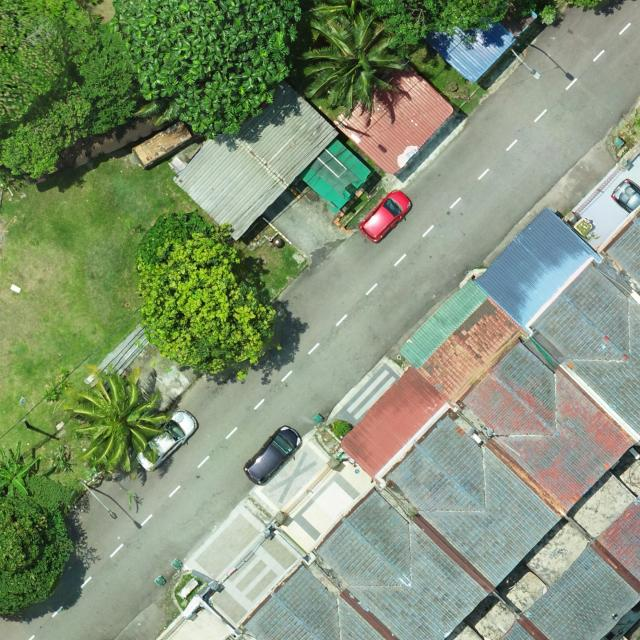Tree: (111, 0, 301, 141), (0, 0, 141, 181), (136, 221, 278, 384), (64, 362, 173, 480), (300, 8, 410, 118), (0, 473, 75, 615), (371, 0, 522, 60), (136, 209, 212, 264), (299, 0, 398, 42), (0, 440, 41, 497)
